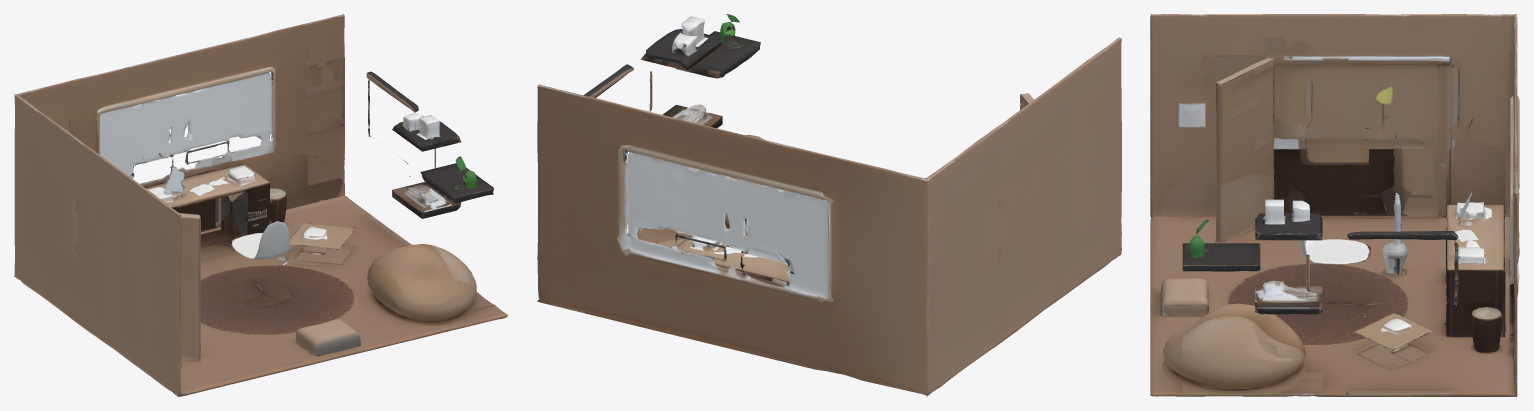
Rendered from office1.glb.
3 views of the same model, side by side, from view 1: azimuth 30°, elevation 25°; view 2: azimuth 150°, elevation 25°; view 3: azimuth 270°, elevation 25° (orthographic). The views are drawn at different scales.
Parts seen in each view (by area): view 1: model; view 2: model; view 3: model.
Part boxes in pixels (box(x1,y1,x2,y2)): model: box(14, 14, 508, 396); model: box(537, 14, 1121, 396); model: box(1150, 14, 1519, 396).
Size of the model in its own units: 1.9 by 1.01 by 1.66.
Materials: 1 (1 with a texture image).
